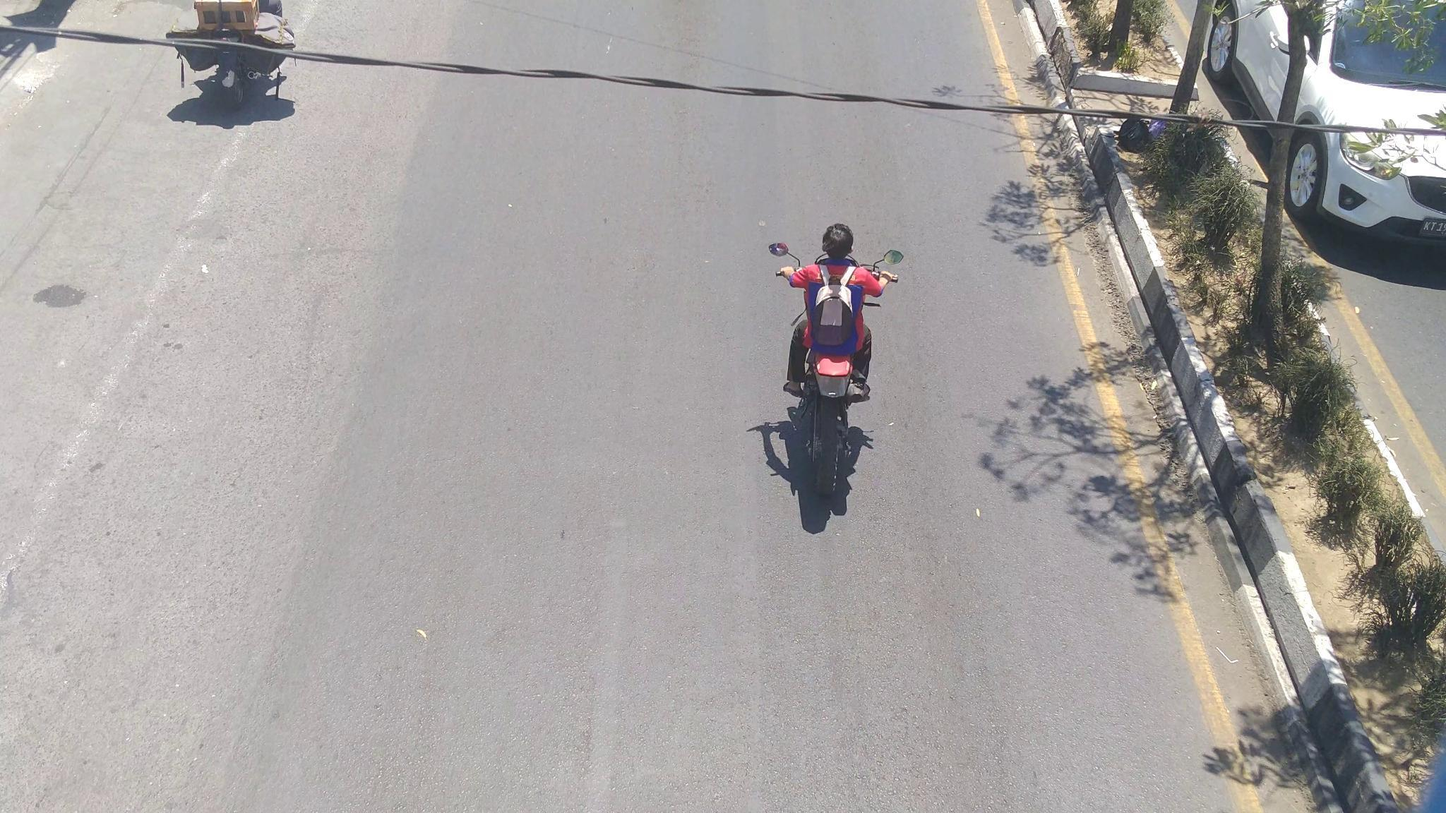bike: (756, 239, 907, 495)
no-helmet: (818, 220, 857, 261)
rider: (777, 220, 892, 396)
